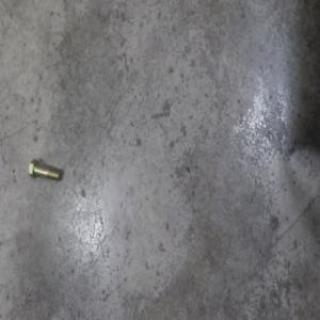Bolttrack_idkeyframe: (28, 162, 61, 189)
